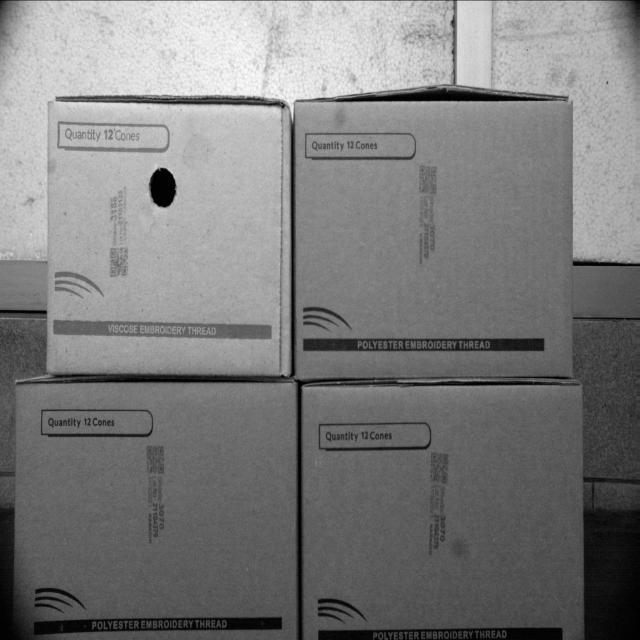box: (296, 98, 572, 378), (300, 380, 582, 640), (13, 386, 294, 639), (46, 97, 290, 378)
